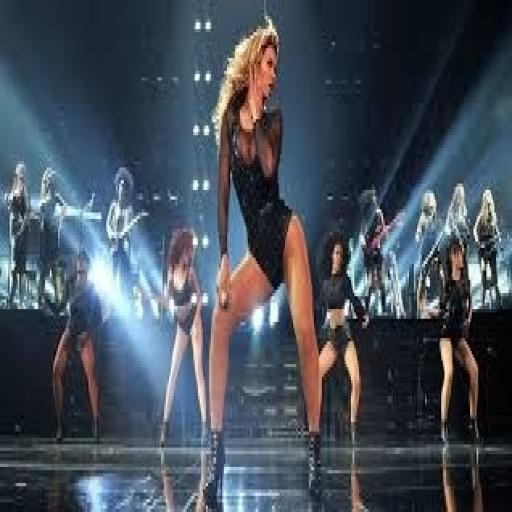dancing: (195, 16, 328, 509), (418, 167, 506, 512), (294, 190, 389, 436), (147, 222, 214, 464), (56, 218, 132, 404)
